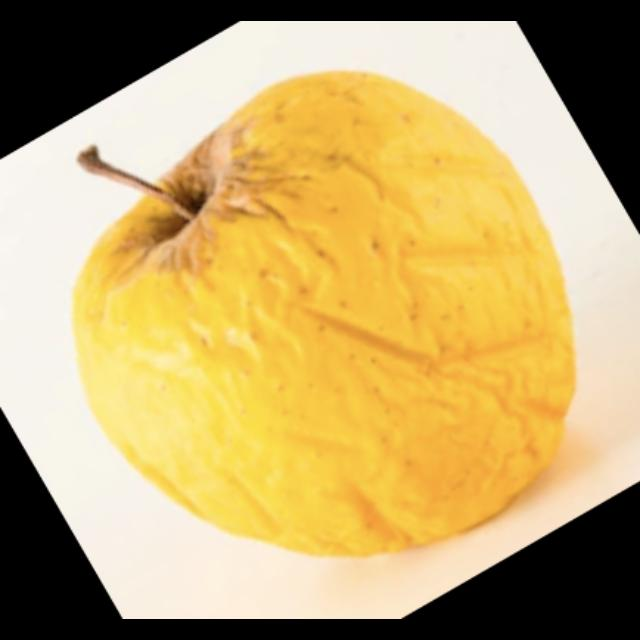Apel Tidak Segar: (71, 66, 574, 558)
